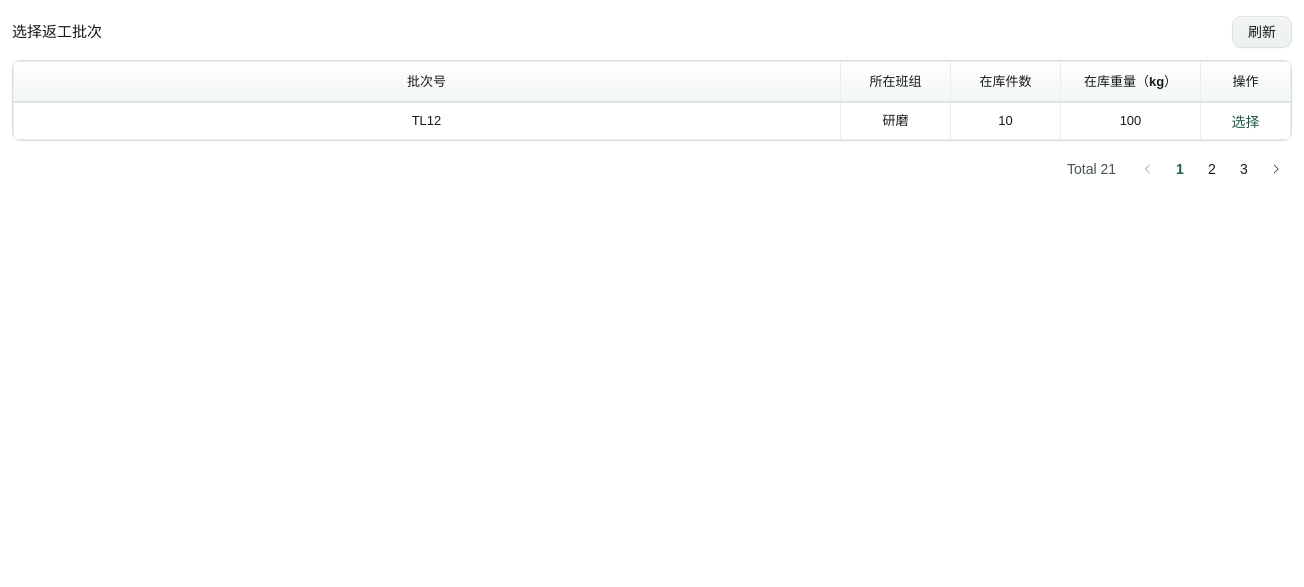
Test: binds the quality issue and real lot while requiring explicit rework amounts
Click the button "选择" at [1246, 122], box [1228, 112, 1262, 132]
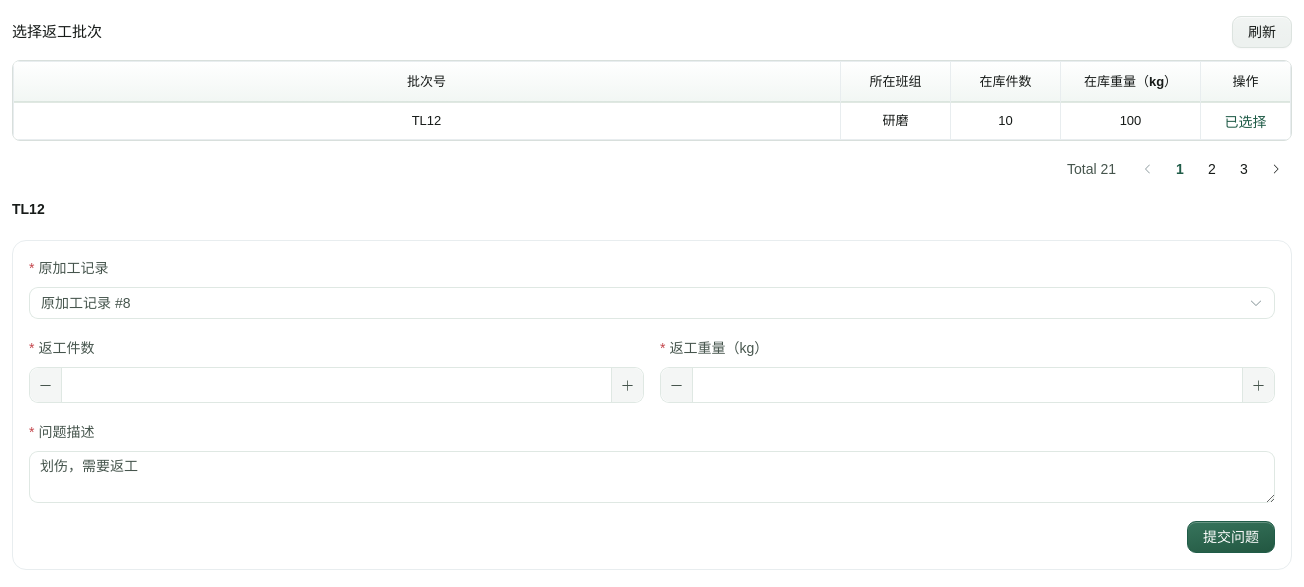
Submit the form, box [29, 257, 1275, 553]
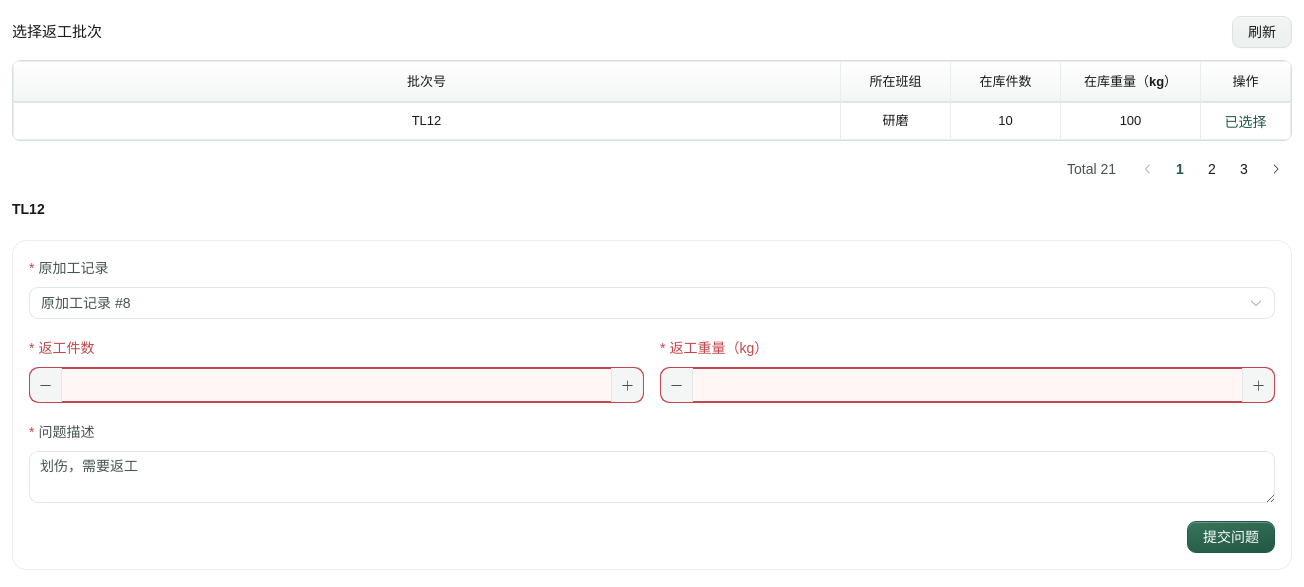
Type "4" into the number field named "返工件数" at [336, 385], box [71, 368, 602, 402]
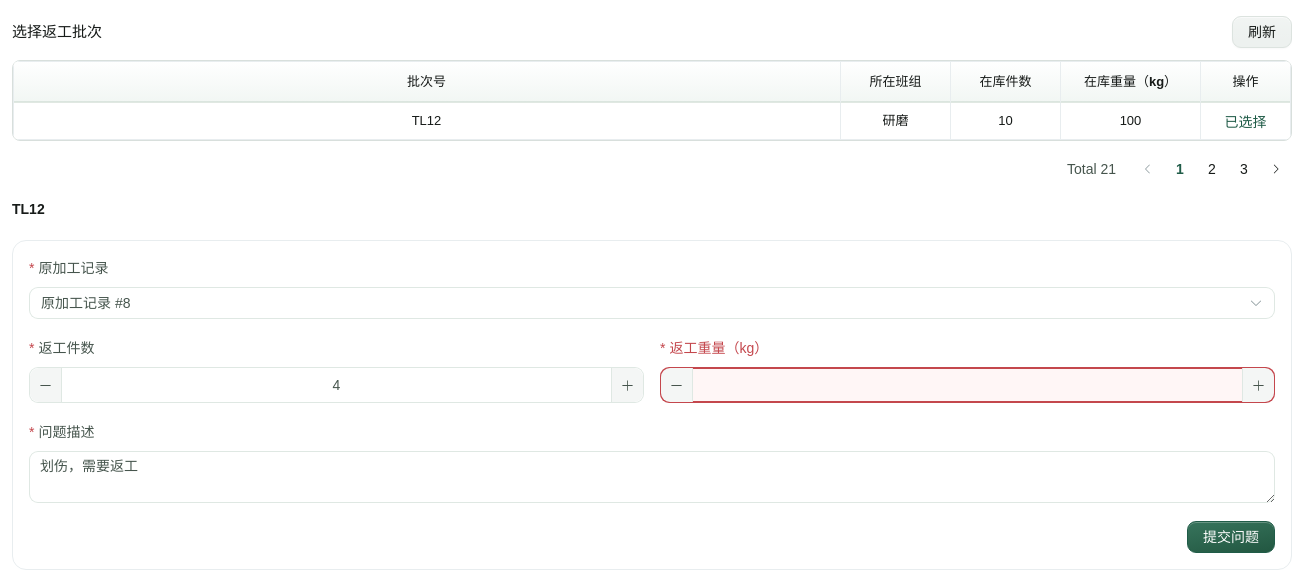
Type "40" into the number field named "返工重量" at [968, 385], box [702, 368, 1233, 402]
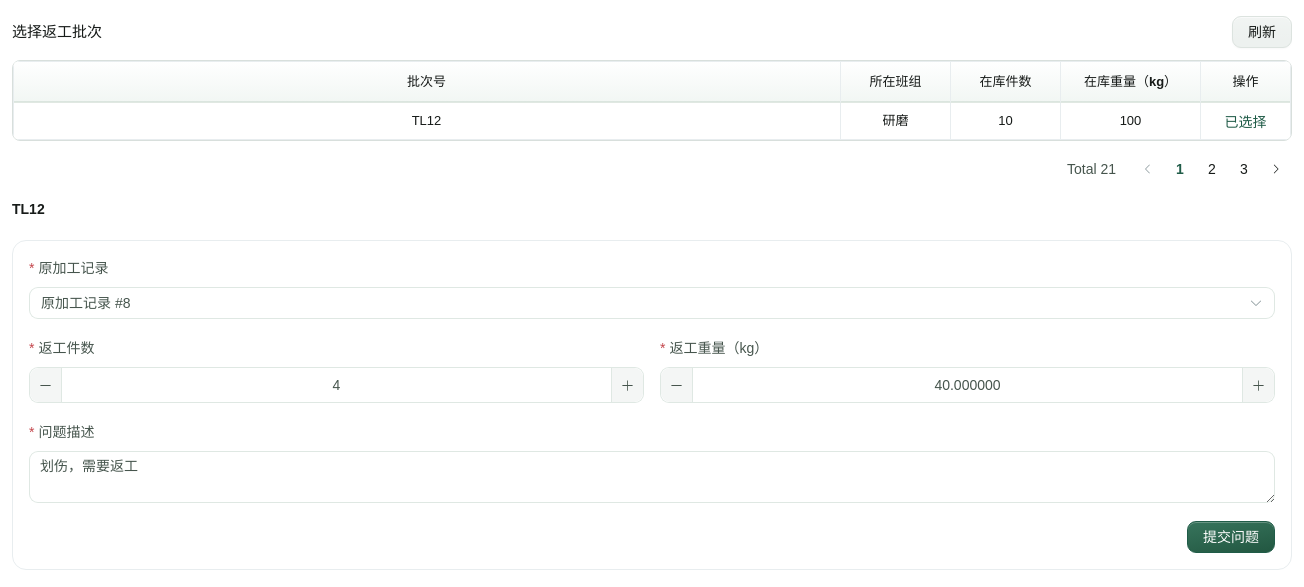
Submit the form, box [29, 257, 1275, 553]
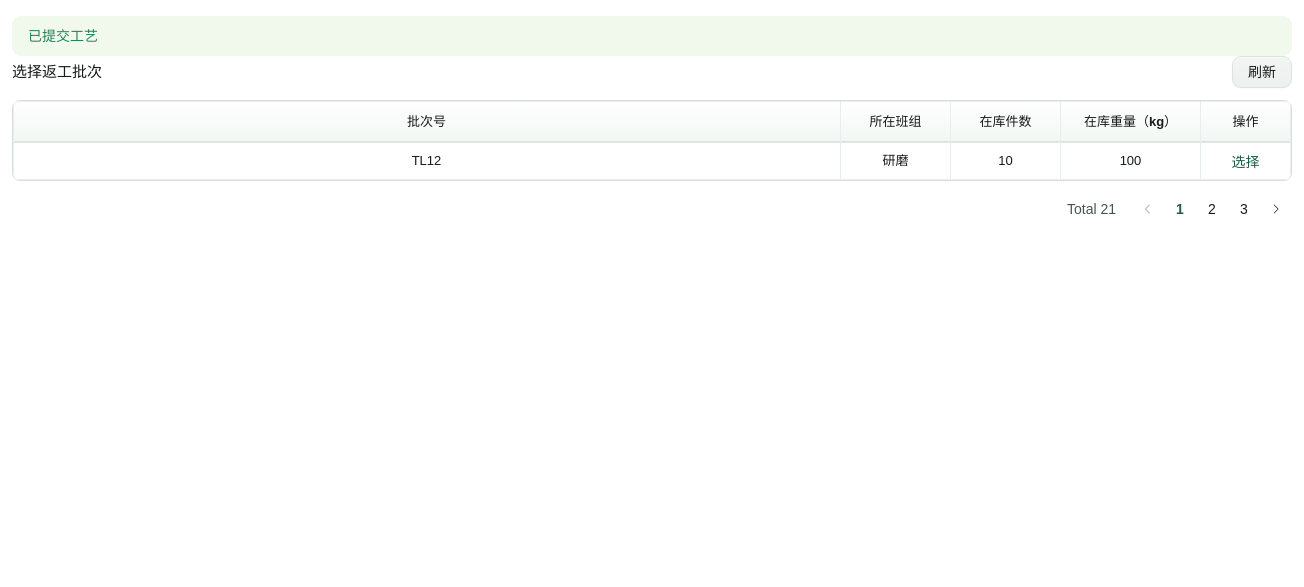
Now the text "已提交工艺" is shown, box [28, 24, 98, 48]
